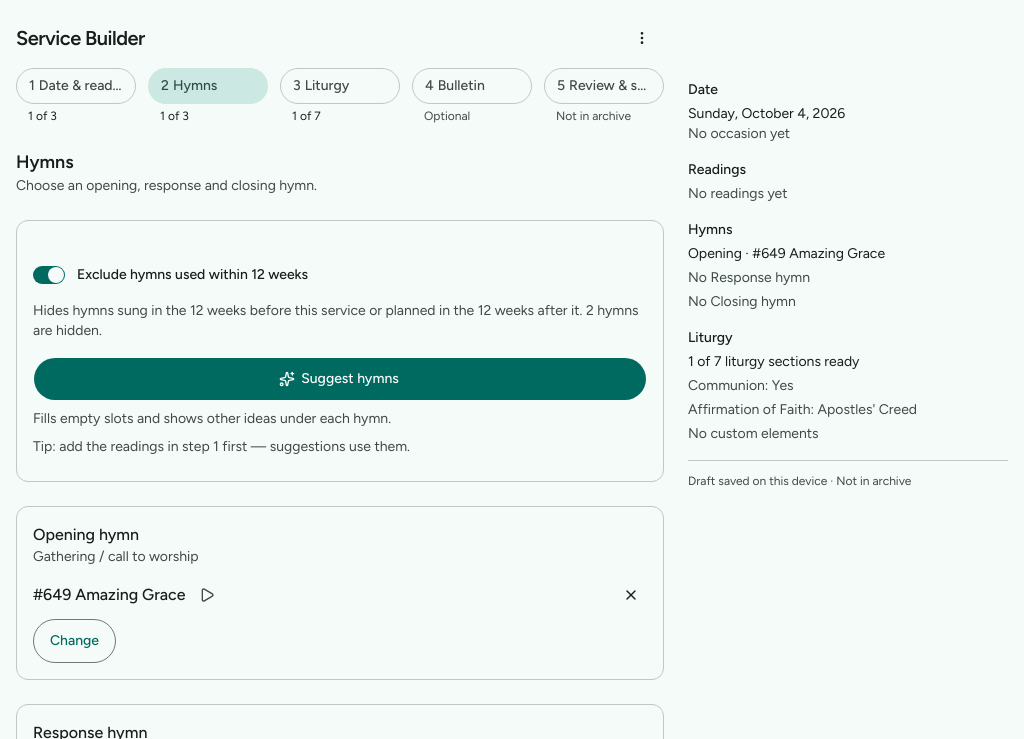
Test: slot cards (S Slot cards, Notices) › ✕ removes the hymn with a Removed toast whose Undo puts it back; focus goes to the card's heading
Click the button named "Remove Amazing Grace" at coordinates (631, 595), box x1=615 y1=579 x2=647 y2=611
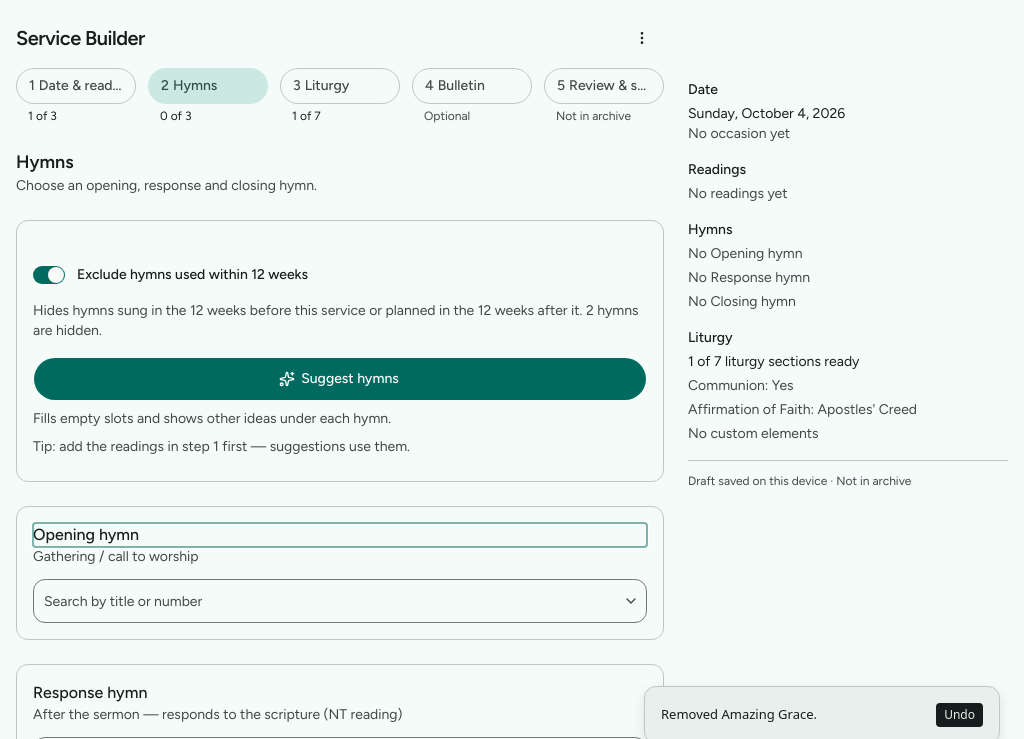
Check: the dropdown named "Opening hymn" is enabled, box x1=34 y1=580 x2=619 y2=622
Check: the text "Removed Amazing Grace." is shown, box x1=661 y1=705 x2=817 y2=725
Click the button "Undo" at coordinates (960, 715), box x1=936 y1=703 x2=983 y2=727
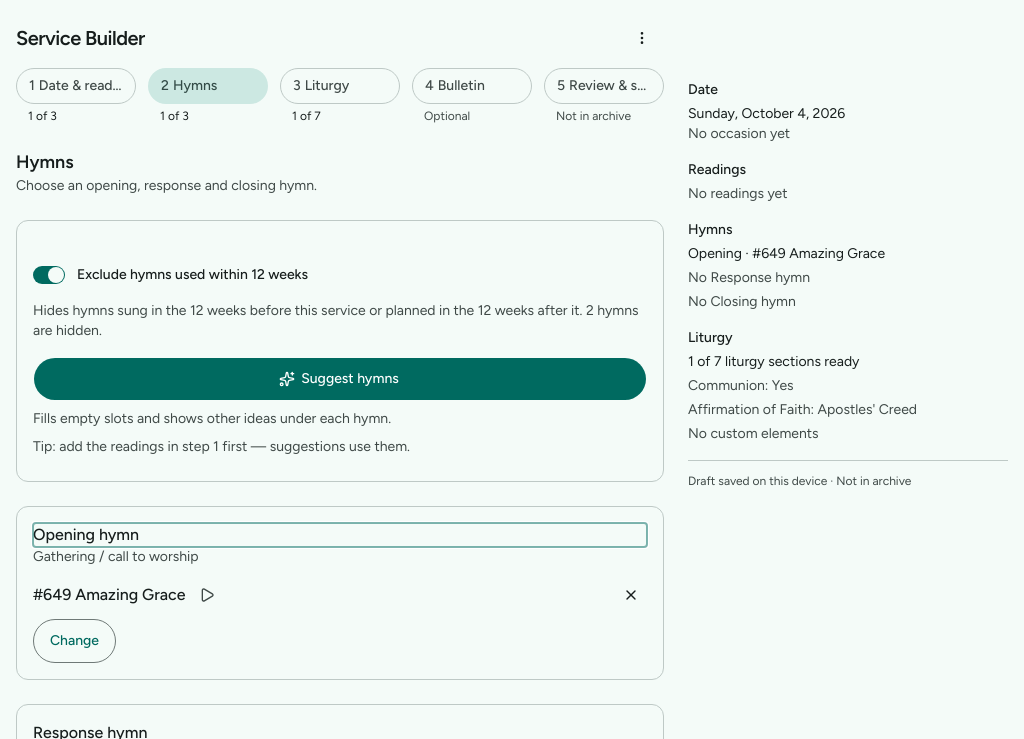
Check: the text "#649 Amazing Grace" is shown, box x1=33 y1=583 x2=186 y2=607
